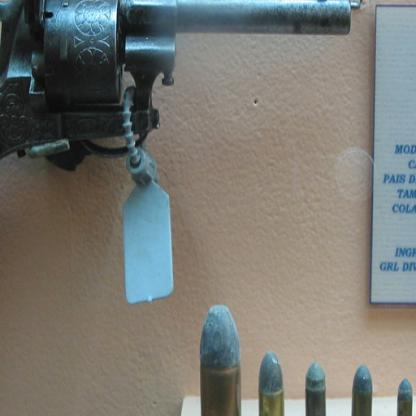gun: (0, 0, 352, 324)
